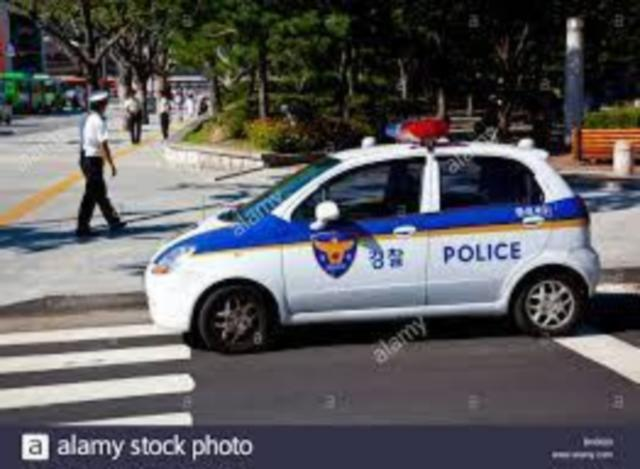police: (144, 117, 598, 337)
